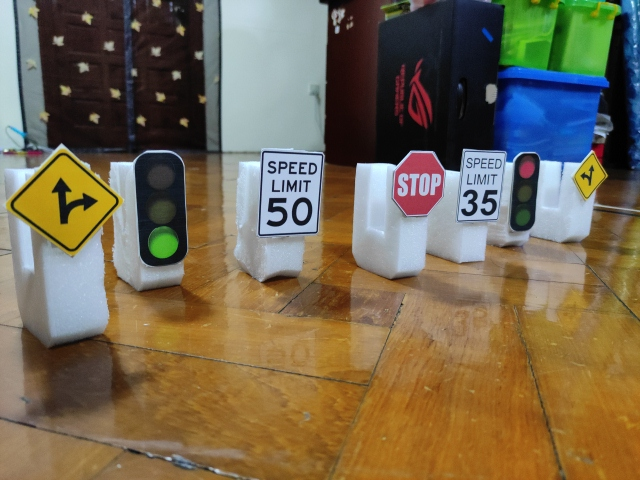Green Traffic Light: (133, 149, 189, 266)
Red Traffic Light: (509, 152, 540, 230)
Speed Limit 35: (457, 149, 507, 224)
Speed Limit 50: (257, 148, 324, 234)
Stop Sign: (393, 150, 447, 218)
Straight Or Left Sign: (573, 151, 607, 199)
Straight Or Right Sign: (8, 148, 120, 254)
